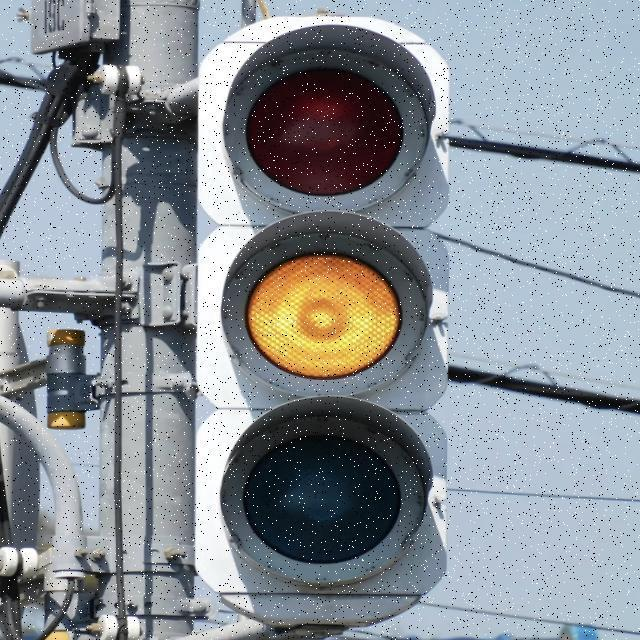yellow_light: (200, 216, 442, 394)
